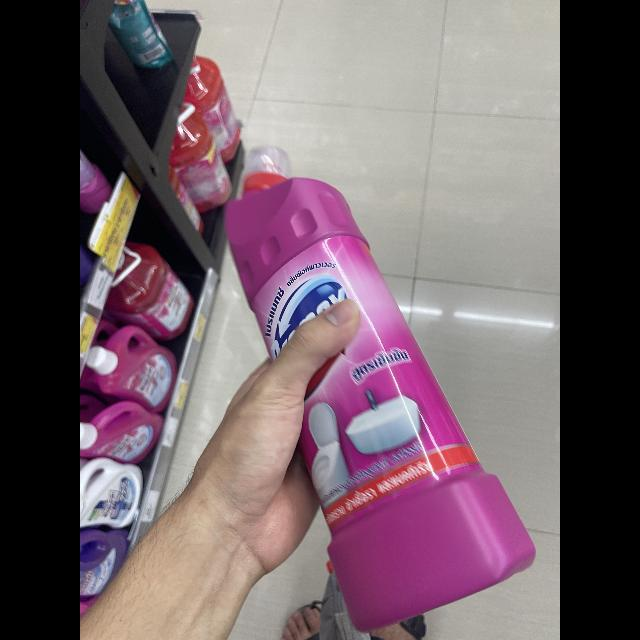chemical_plastic_bottle: (223, 141, 542, 634)
